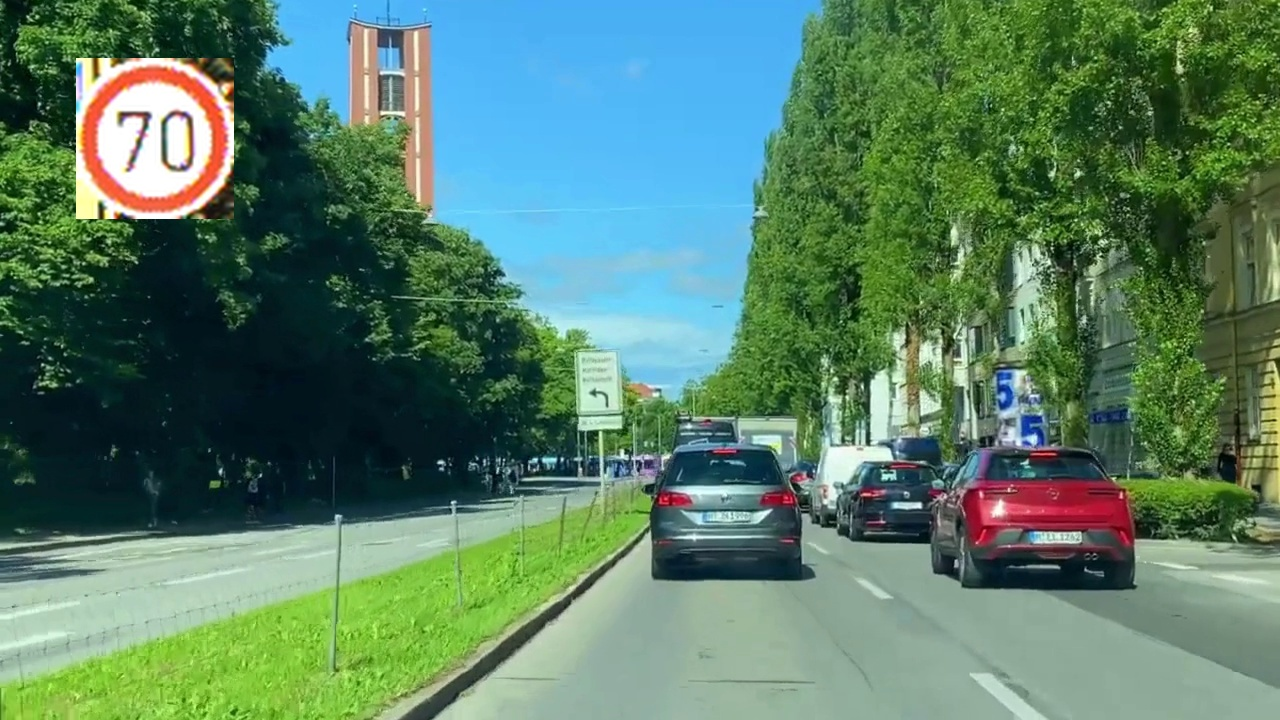Speed 70: (76, 58, 234, 219)
